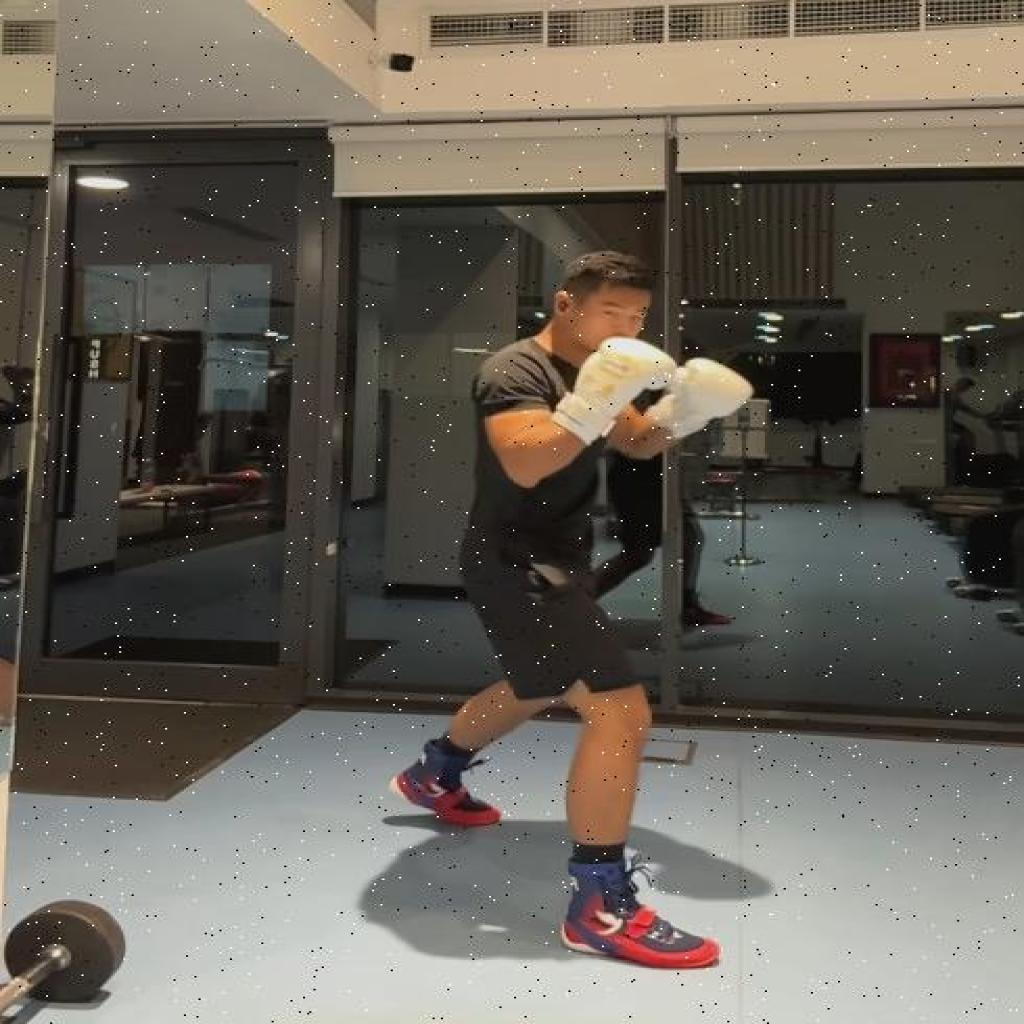no punch: (393, 248, 752, 973)
